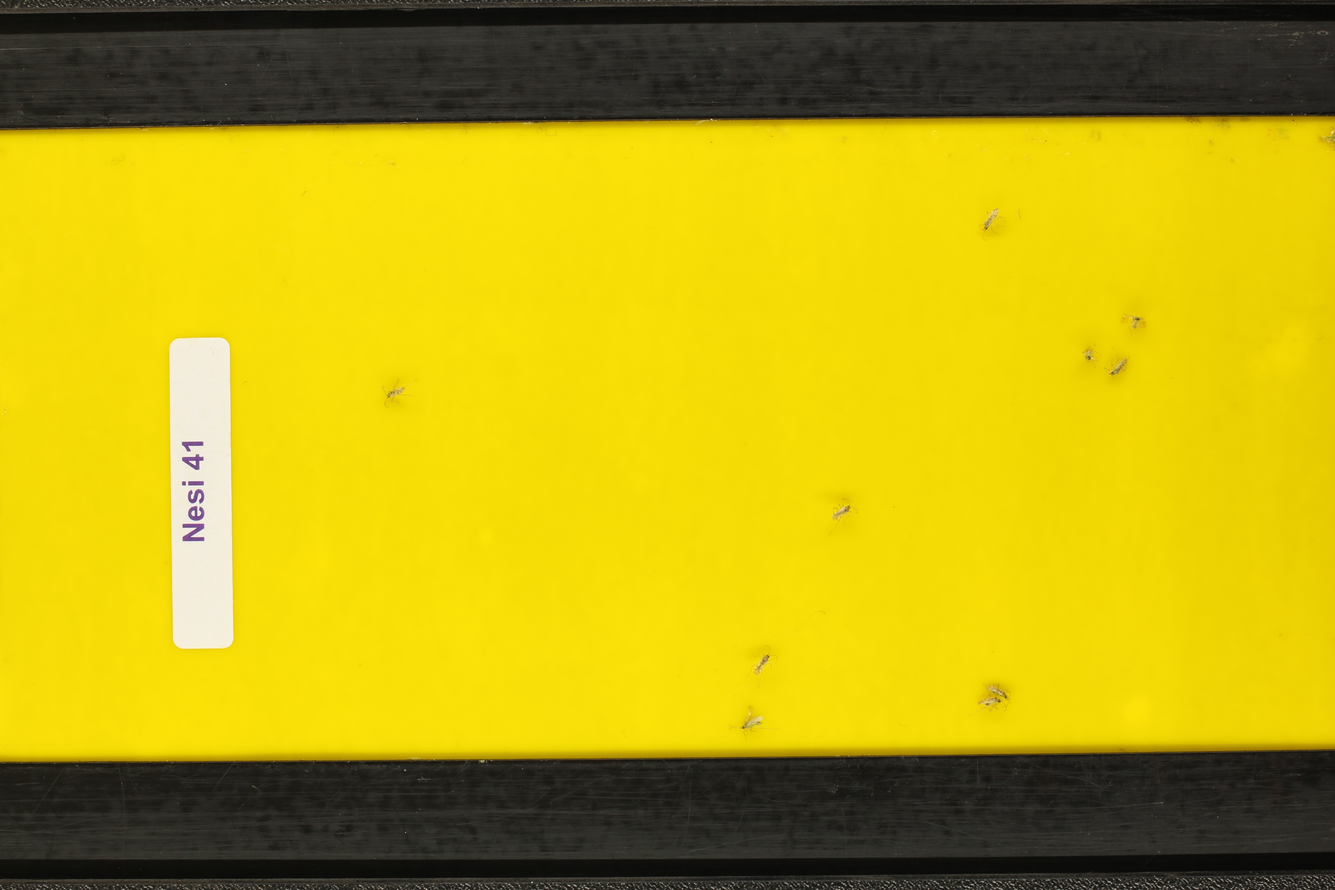NC: (730, 706, 768, 740), (826, 495, 858, 530), (749, 646, 780, 682), (982, 673, 1018, 703), (1117, 307, 1154, 336), (378, 381, 413, 409), (977, 206, 1005, 241), (1106, 350, 1132, 383), (975, 696, 1009, 720), (1080, 340, 1103, 368)
